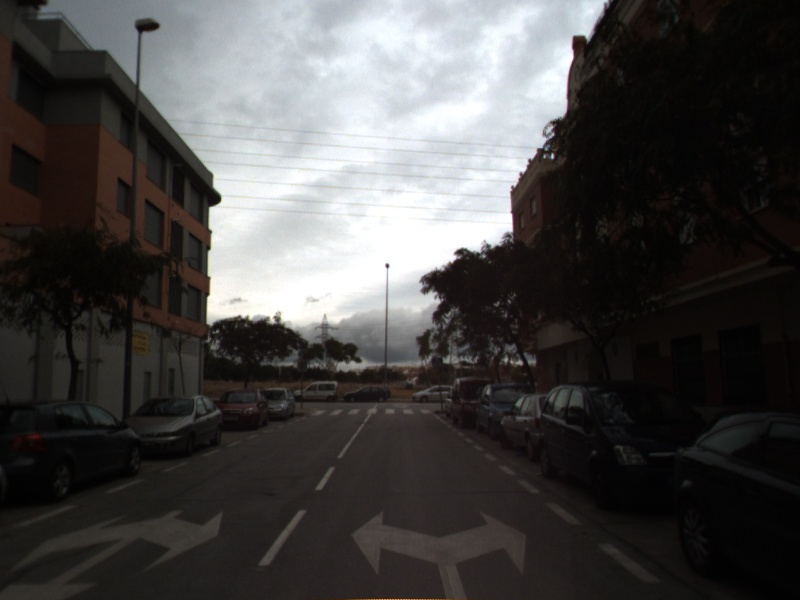LEFT_RIGHT: (348, 507, 529, 600)
